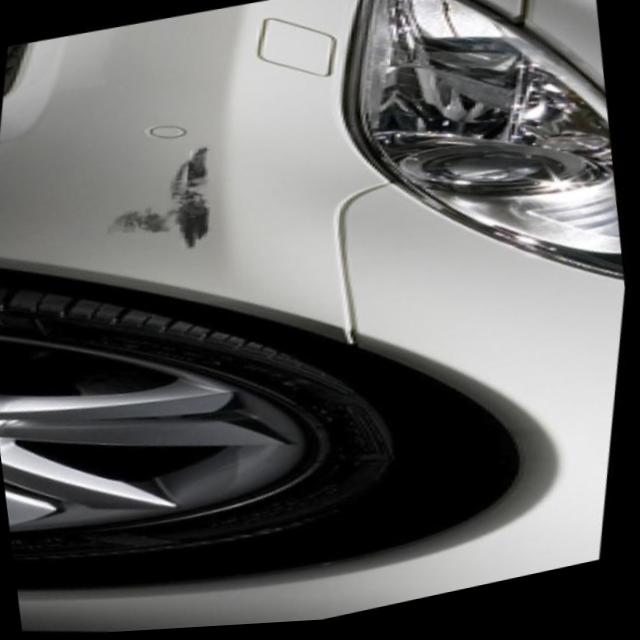Scratch: (108, 135, 235, 269)
